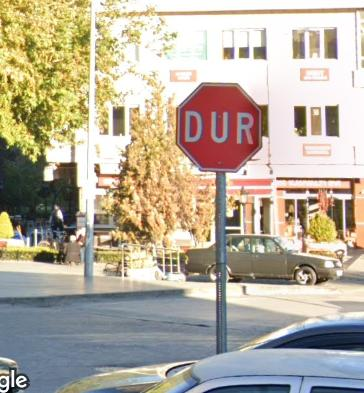stop: (174, 80, 263, 176)
